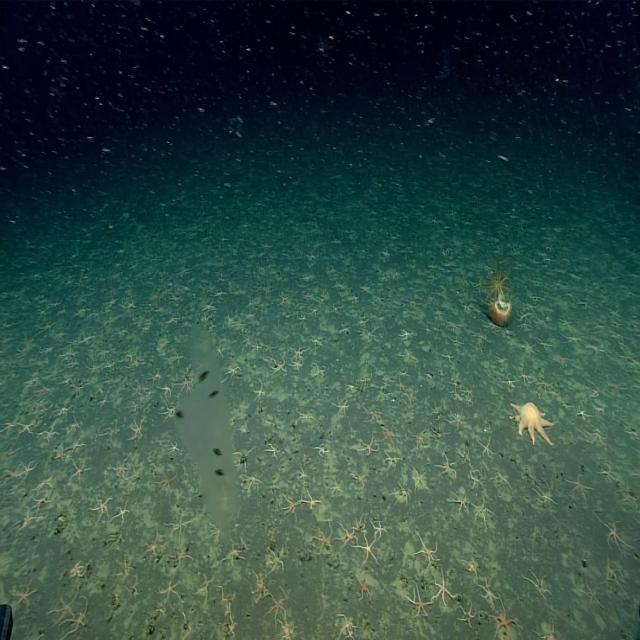brittle-stars: (46, 586, 82, 628), (598, 517, 627, 552), (490, 602, 518, 637), (110, 549, 138, 582), (266, 590, 290, 627), (10, 576, 36, 610), (122, 572, 146, 608), (68, 600, 90, 637), (407, 586, 432, 617), (578, 580, 604, 609), (528, 570, 554, 599), (167, 511, 192, 541), (349, 507, 372, 539), (434, 574, 455, 609), (312, 523, 333, 555), (417, 534, 439, 564), (107, 524, 129, 553), (565, 474, 589, 500), (606, 559, 625, 590), (337, 613, 358, 640), (358, 536, 377, 565), (474, 496, 493, 523), (17, 511, 40, 533), (160, 580, 182, 602), (156, 472, 178, 494), (338, 522, 358, 546), (536, 620, 560, 640), (480, 579, 499, 604), (268, 548, 286, 574), (252, 570, 268, 599), (449, 491, 469, 514), (70, 457, 90, 480), (92, 496, 112, 519), (144, 530, 160, 558), (412, 465, 429, 491), (535, 483, 555, 505), (439, 454, 459, 476), (172, 546, 192, 568), (495, 323, 517, 343), (357, 365, 376, 388), (330, 270, 348, 294), (358, 437, 378, 458), (392, 483, 410, 506), (225, 543, 242, 567), (459, 602, 476, 626), (445, 333, 469, 350), (356, 577, 372, 602), (236, 530, 254, 552), (161, 310, 179, 332), (382, 423, 399, 446), (586, 380, 603, 403), (448, 410, 467, 430), (302, 490, 322, 509), (234, 449, 253, 469), (350, 466, 368, 487), (102, 421, 120, 442), (218, 590, 235, 612), (192, 574, 208, 597), (514, 320, 533, 339), (281, 494, 299, 514), (20, 460, 38, 480), (3, 468, 23, 486), (114, 500, 130, 522), (333, 322, 355, 338), (266, 474, 282, 496), (251, 336, 266, 359), (243, 474, 261, 493), (598, 464, 616, 483), (40, 423, 58, 442), (35, 476, 53, 495), (278, 621, 296, 640), (617, 483, 635, 502), (65, 417, 82, 437), (524, 290, 546, 305), (590, 427, 608, 445), (225, 617, 239, 640), (480, 439, 496, 459), (128, 465, 144, 485), (342, 377, 358, 397), (372, 518, 387, 539), (208, 522, 223, 543), (131, 417, 145, 439), (0, 416, 17, 434), (294, 310, 311, 328), (31, 493, 49, 510), (406, 294, 422, 313), (70, 560, 85, 580), (296, 410, 313, 427), (364, 408, 381, 425), (162, 403, 178, 421), (126, 399, 144, 415), (131, 380, 147, 398), (516, 308, 532, 326), (113, 459, 128, 478), (562, 332, 581, 347), (416, 429, 428, 452), (494, 470, 510, 487), (177, 378, 193, 395), (18, 420, 34, 437), (24, 369, 40, 386), (518, 368, 533, 386), (267, 442, 282, 460), (385, 451, 400, 469), (464, 557, 478, 576), (626, 424, 640, 443), (531, 314, 550, 328), (430, 400, 443, 420), (536, 337, 552, 353), (335, 401, 351, 417), (226, 362, 242, 378), (522, 339, 537, 356), (475, 329, 490, 346), (170, 350, 186, 365), (57, 403, 72, 419), (47, 362, 62, 378), (292, 343, 306, 360), (62, 347, 79, 361), (314, 444, 329, 459), (402, 347, 417, 362), (536, 378, 552, 392), (89, 359, 103, 375), (312, 362, 326, 378), (83, 331, 97, 347), (444, 322, 461, 335), (469, 469, 482, 486), (253, 380, 264, 400), (398, 327, 413, 341), (130, 355, 144, 370), (70, 440, 84, 455), (382, 241, 392, 262), (458, 448, 470, 465), (272, 360, 286, 374), (289, 358, 303, 372), (443, 350, 457, 364), (311, 335, 324, 350), (157, 337, 170, 352), (332, 480, 344, 496), (528, 470, 540, 486), (161, 384, 174, 398), (559, 315, 572, 329), (62, 374, 75, 388), (104, 294, 118, 307), (592, 404, 606, 417), (503, 375, 515, 390), (450, 387, 462, 402), (56, 447, 68, 462), (224, 312, 236, 327), (576, 407, 588, 422), (576, 296, 591, 308), (219, 490, 230, 506), (396, 378, 406, 395), (204, 301, 217, 314), (243, 307, 255, 321), (38, 403, 50, 417), (34, 382, 48, 394), (359, 282, 372, 294), (150, 371, 162, 384), (75, 306, 88, 318), (279, 291, 291, 304), (126, 299, 138, 312), (363, 327, 375, 340), (386, 283, 398, 296), (169, 442, 180, 456), (215, 343, 225, 358), (213, 288, 226, 299), (373, 292, 384, 305), (236, 319, 247, 332), (332, 304, 343, 317), (105, 358, 116, 371), (310, 306, 321, 318), (357, 316, 368, 328), (435, 308, 448, 318), (308, 249, 318, 262), (99, 347, 110, 358), (464, 385, 474, 397), (304, 289, 314, 301), (551, 387, 561, 399), (350, 291, 360, 303), (451, 378, 461, 390), (302, 454, 311, 467), (298, 466, 306, 480), (282, 310, 292, 321), (267, 342, 276, 354)
